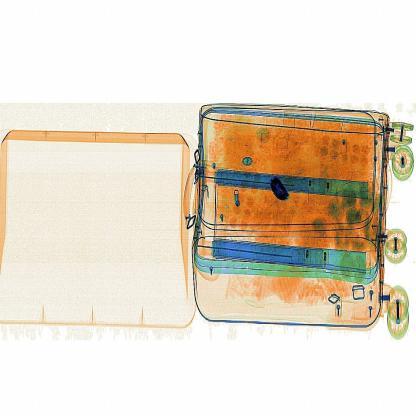scissors: (265, 167, 295, 206)
